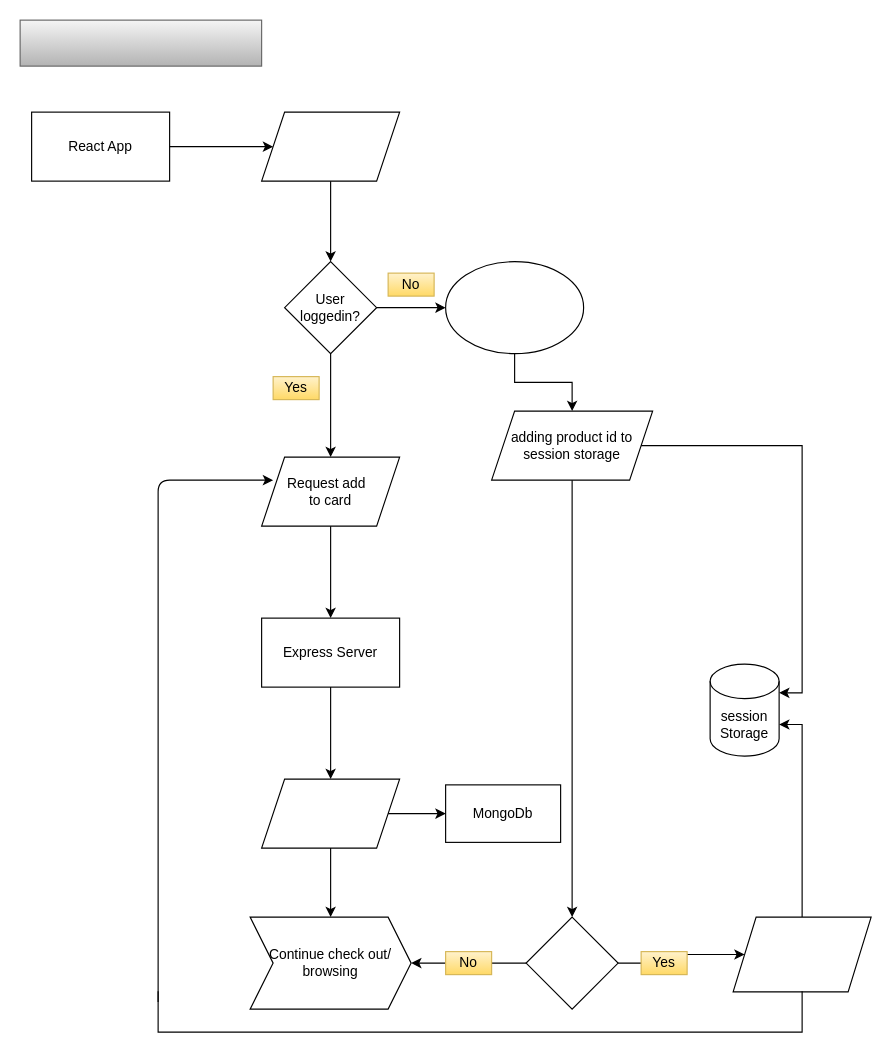
Some shapes in this 891 by 1052 pixel diagram are drawn without their labels. Here are the shapes that lost their labels. From the top down, the centre of each, then its label:
(140,42): Shopping Card
(330,146): Add to cart action
(514,307): Login/sign up prompt/page
(330,813): Updating User cart
(571,962): User logs in
(801,954): Retrieve session cart data
